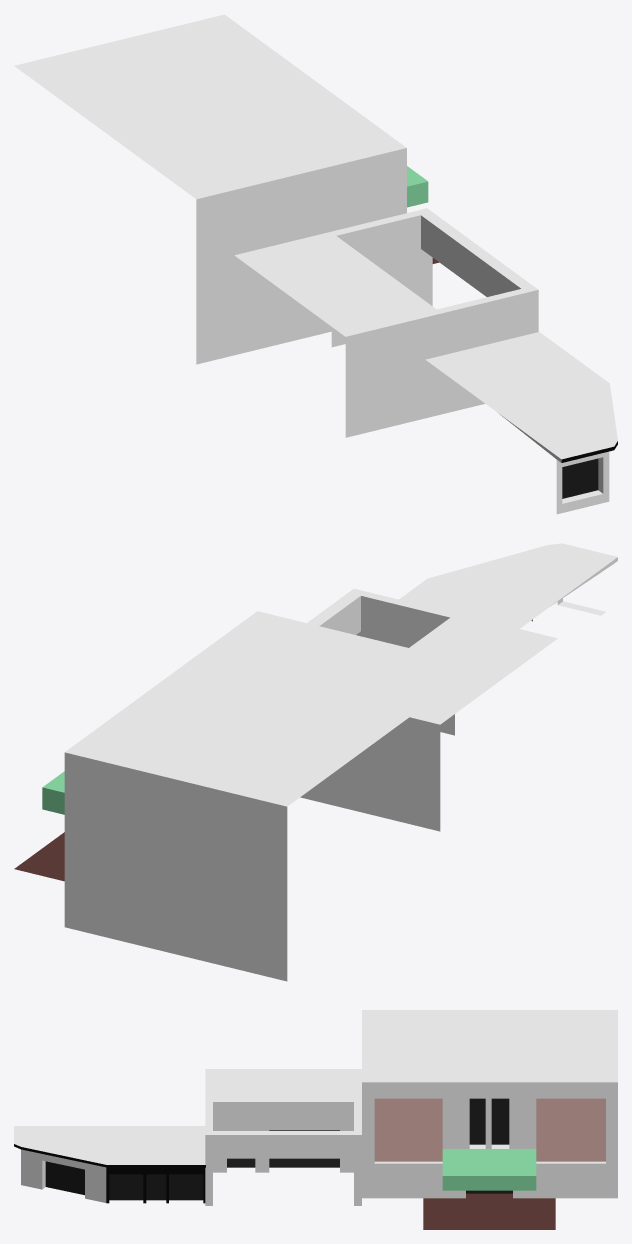
Rendered from Edificio-4-Izquierda.glb.
The picture shows the model from 3 angles, top to bottom: view 1: azimuth 30°, elevation 25°; view 2: azimuth 150°, elevation 25°; view 3: azimuth 270°, elevation 25°; orthographic projection. The views are drawn at different scales.
Parts seen in each view (by area): view 1: Plane3, Plane2, Plane; view 2: Plane3, Plane2, Plane; view 3: Plane3, Plane2, Plane.
Part boxes in pixels (x1=…): Plane3: x1=14, y1=14, x2=439, y2=364; Plane2: x1=234, y1=208, x2=538, y2=437; Plane: x1=426, y1=332, x2=617, y2=514; Plane3: x1=14, y1=611, x2=479, y2=981; Plane2: x1=300, y1=588, x2=557, y2=831; Plane: x1=399, y1=543, x2=617, y2=628; Plane3: x1=362, y1=1010, x2=617, y2=1229; Plane2: x1=205, y1=1069, x2=361, y2=1205; Plane: x1=14, y1=1126, x2=205, y2=1203.
Size of the model in its own units: 34.5 by 18.1 by 84.9.
